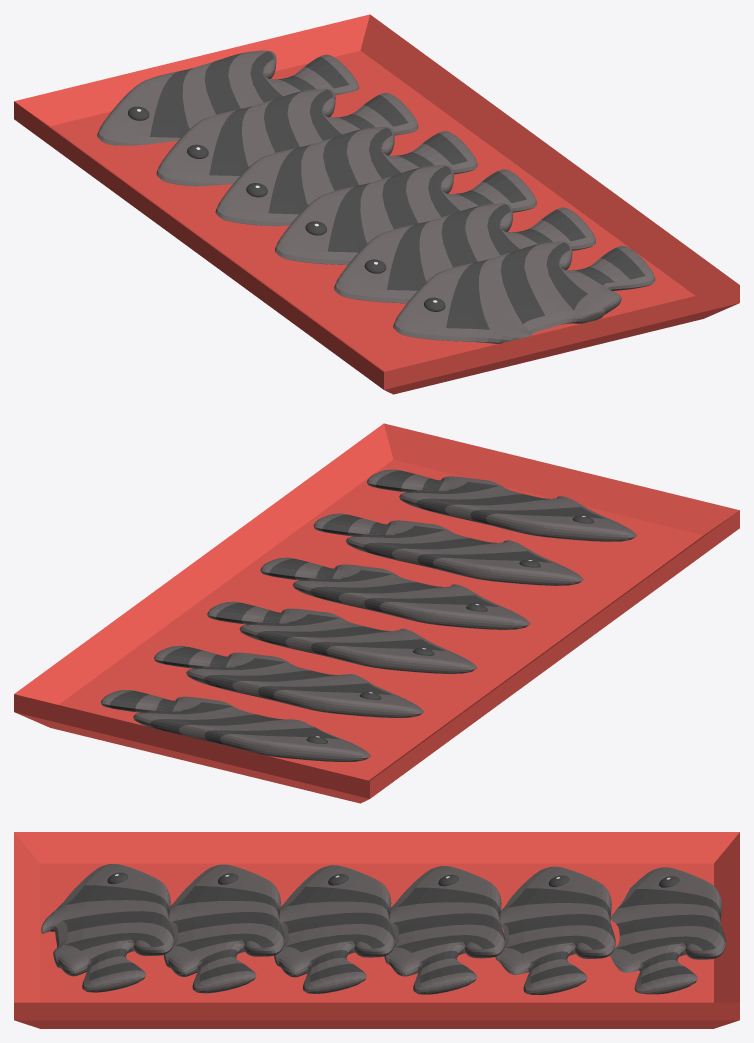
Rendered from tilapia(full).fbx.
3 views of the same model, one above another, from view 1: azimuth 30°, elevation 25°; view 2: azimuth 150°, elevation 25°; view 3: azimuth 270°, elevation 25° (orthographic).
Visible parts, largest first — view 1: tilapia.001, Cube.058; view 2: Cube.058, tilapia.001; view 3: Cube.058, tilapia.001.
Boxes of the visible parts, x1,y1,x2,y2 form: tilapia.001: (97, 50, 655, 343); Cube.058: (14, 14, 739, 394); Cube.058: (14, 423, 739, 803); tilapia.001: (100, 469, 636, 761); Cube.058: (14, 832, 739, 1028); tilapia.001: (41, 864, 725, 995).
Size of the model in its own units: 0.9093 by 0.1238 by 1.64.
